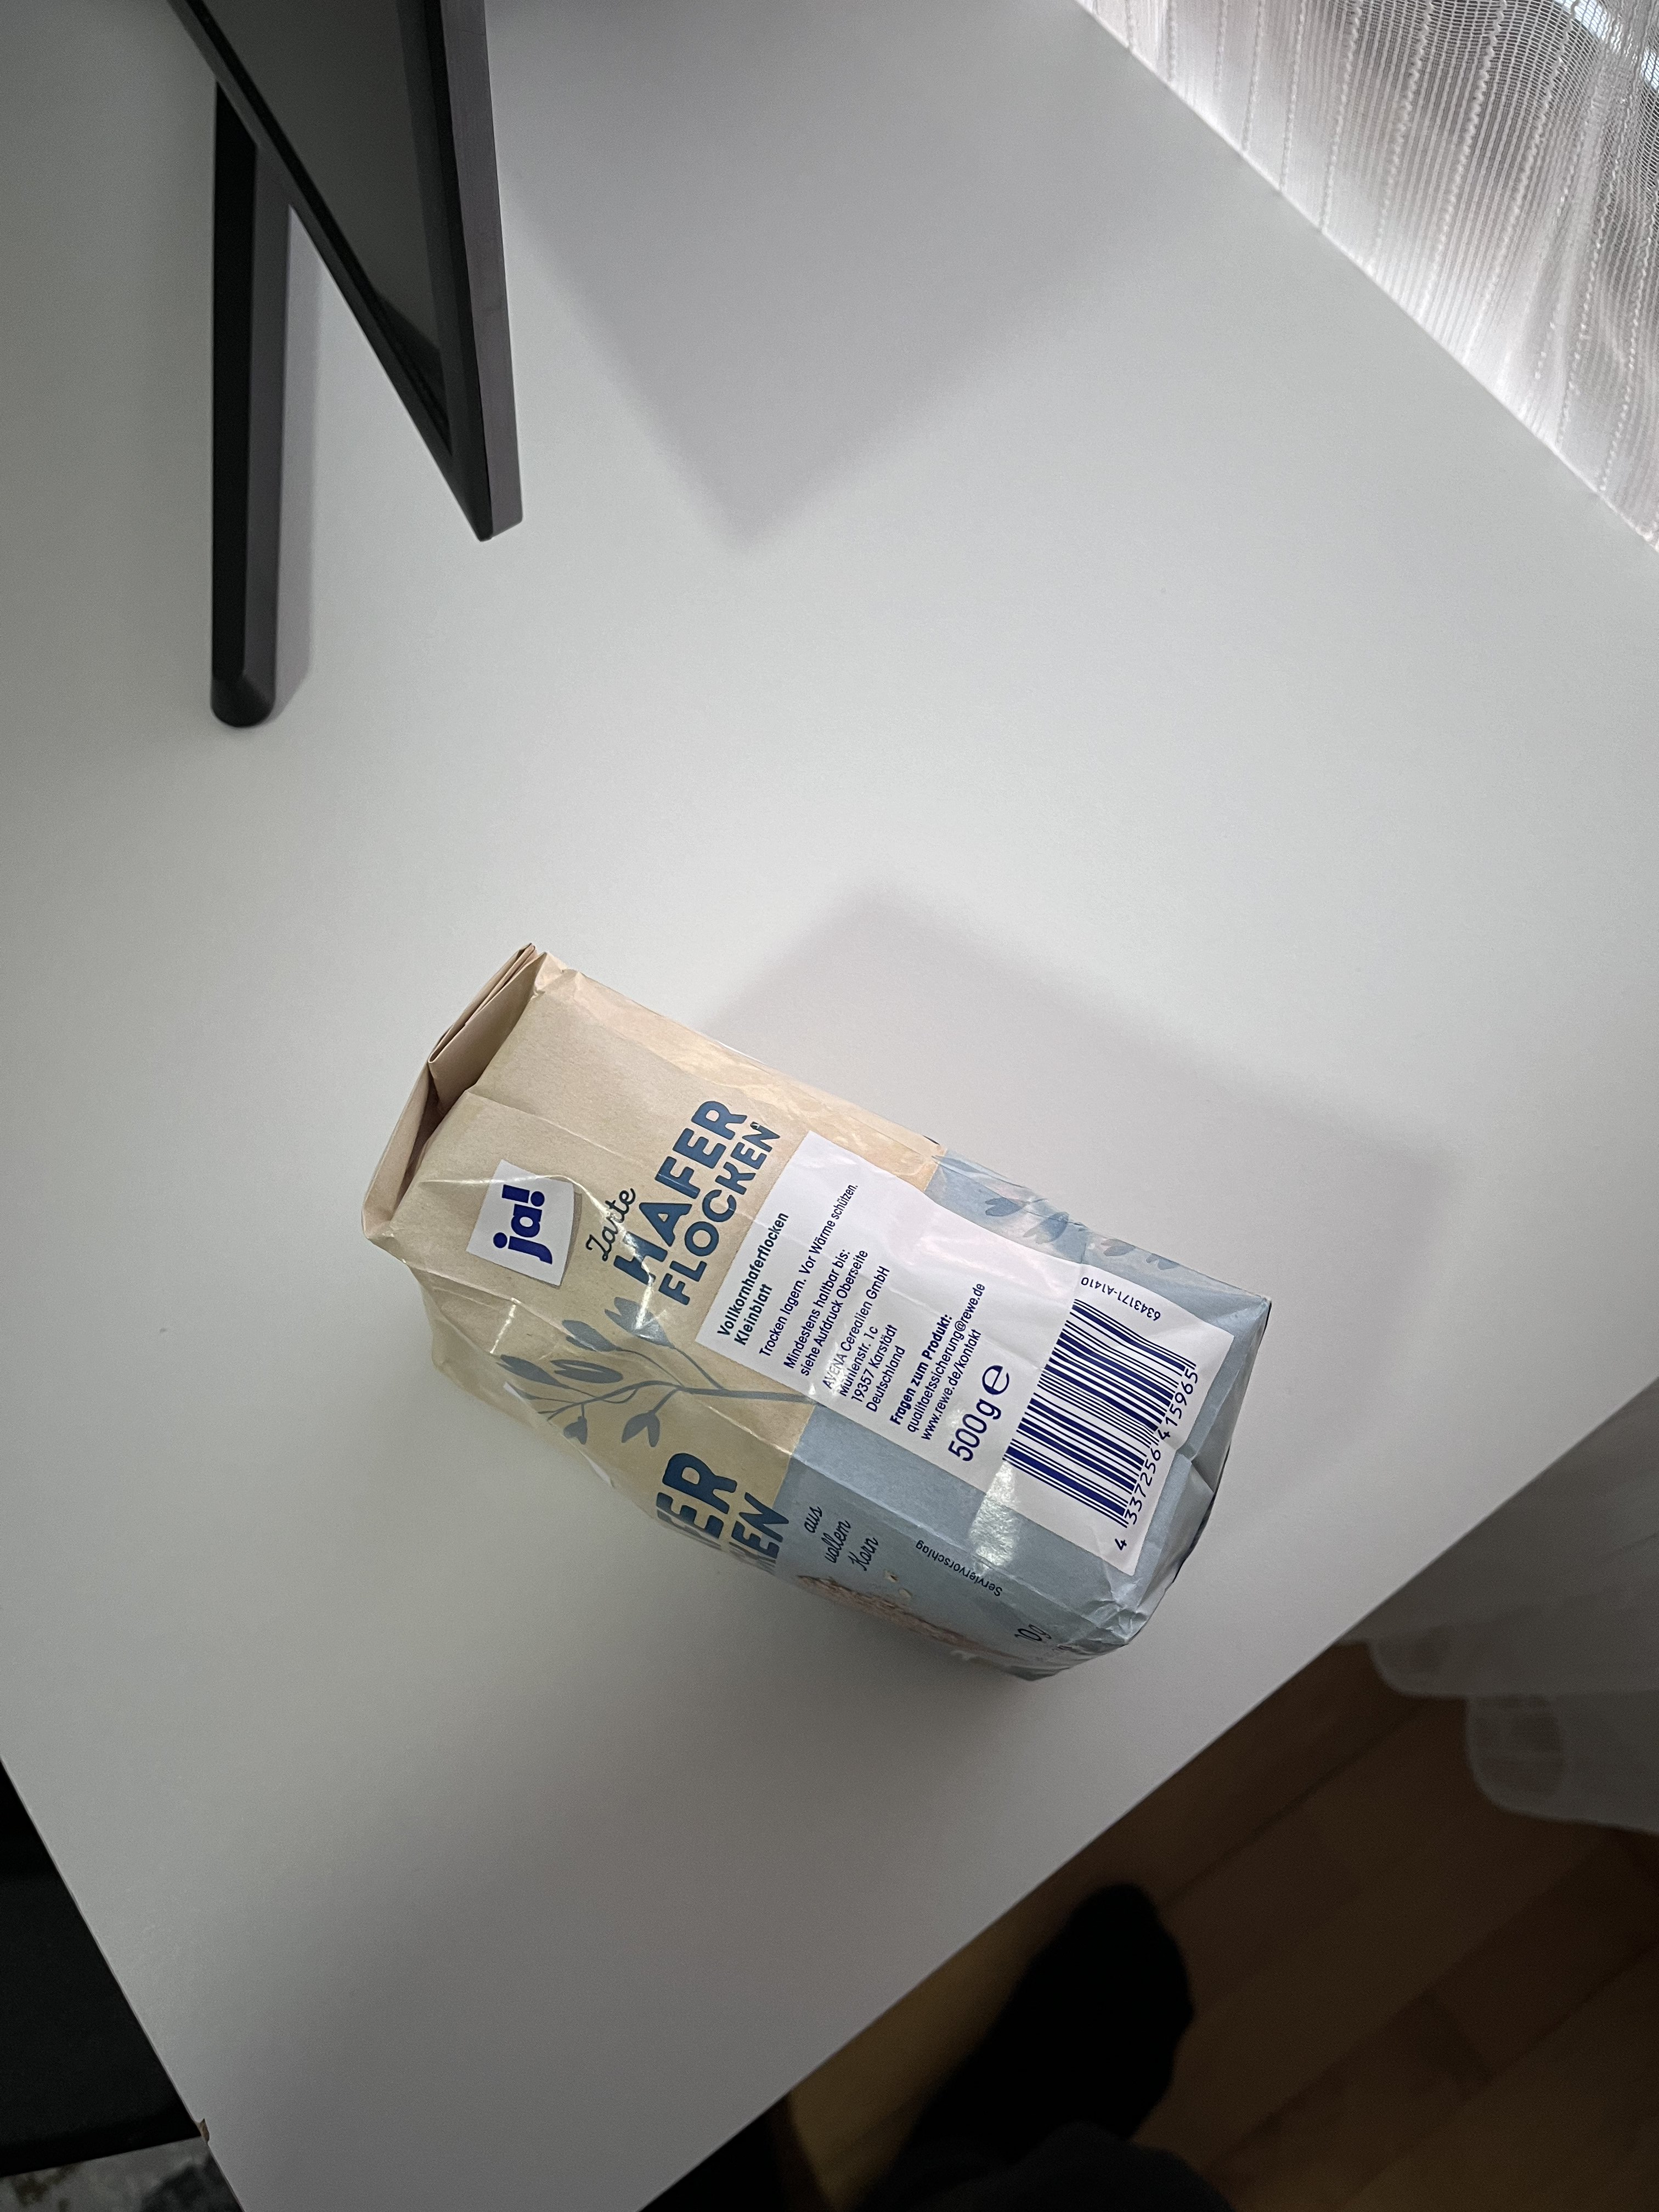haferflocken_ja: (357, 944, 1277, 1681)
